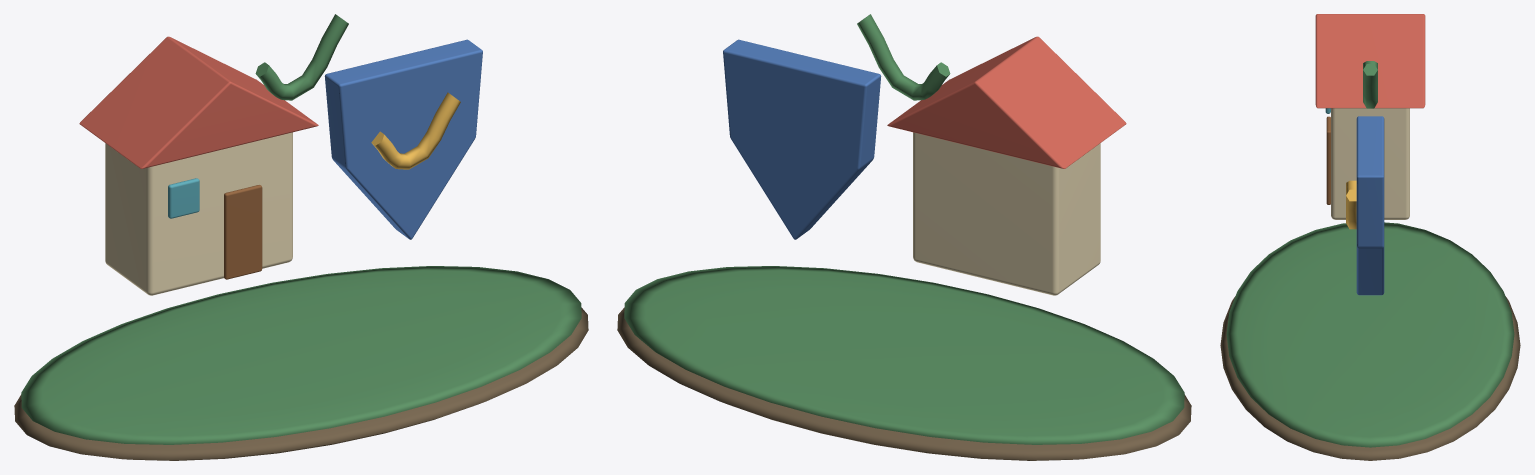
Rendered from complete-second-peaceful-whole.glb.
3 renders of one model, left to right at view 1: azimuth 30°, elevation 25°; view 2: azimuth 150°, elevation 25°; view 3: azimuth 270°, elevation 25°, orthographic. The views are drawn at different scales.
Visible parts, largest first — view 1: complete-second-peaceful-whole_surface_01, complete-second-peaceful-whole_surface_02, complete-second-peaceful-whole_surface_06, complete-second-peaceful-whole_surface_03, complete-second-peaceful-whole_surface_00, complete-second-peaceful-whole_surface_04, complete-second-peaceful-whole_surface_07, complete-second-peaceful-whole_surface_05; view 2: complete-second-peaceful-whole_surface_01, complete-second-peaceful-whole_surface_02, complete-second-peaceful-whole_surface_06, complete-second-peaceful-whole_surface_03, complete-second-peaceful-whole_surface_00; view 3: complete-second-peaceful-whole_surface_01, complete-second-peaceful-whole_surface_03, complete-second-peaceful-whole_surface_02, complete-second-peaceful-whole_surface_00, complete-second-peaceful-whole_surface_06, complete-second-peaceful-whole_surface_07, complete-second-peaceful-whole_surface_04.
Boxes of the visible parts, left/top/right/bottom form: complete-second-peaceful-whole_surface_01: left=21, top=14, right=581, bottom=444; complete-second-peaceful-whole_surface_02: left=105, top=132, right=292, bottom=295; complete-second-peaceful-whole_surface_06: left=324, top=39, right=482, bottom=239; complete-second-peaceful-whole_surface_03: left=79, top=36, right=318, bottom=168; complete-second-peaceful-whole_surface_00: left=14, top=307, right=588, bottom=460; complete-second-peaceful-whole_surface_04: left=224, top=185, right=262, bottom=279; complete-second-peaceful-whole_surface_07: left=371, top=92, right=460, bottom=169; complete-second-peaceful-whole_surface_05: left=168, top=178, right=199, bottom=218; complete-second-peaceful-whole_surface_01: left=624, top=14, right=1184, bottom=444; complete-second-peaceful-whole_surface_02: left=913, top=132, right=1100, bottom=295; complete-second-peaceful-whole_surface_06: left=723, top=39, right=881, bottom=239; complete-second-peaceful-whole_surface_03: left=887, top=36, right=1126, bottom=168; complete-second-peaceful-whole_surface_00: left=617, top=307, right=1191, bottom=460; complete-second-peaceful-whole_surface_01: left=1226, top=61, right=1514, bottom=447; complete-second-peaceful-whole_surface_03: left=1315, top=14, right=1425, bottom=108; complete-second-peaceful-whole_surface_02: left=1331, top=108, right=1409, bottom=219; complete-second-peaceful-whole_surface_00: left=1220, top=296, right=1520, bottom=460; complete-second-peaceful-whole_surface_06: left=1356, top=116, right=1384, bottom=295; complete-second-peaceful-whole_surface_07: left=1346, top=180, right=1356, bottom=229; complete-second-peaceful-whole_surface_04: left=1326, top=116, right=1330, bottom=204.
Bounding box in the file's own units: 4.56 × 2.86 × 2.5.
